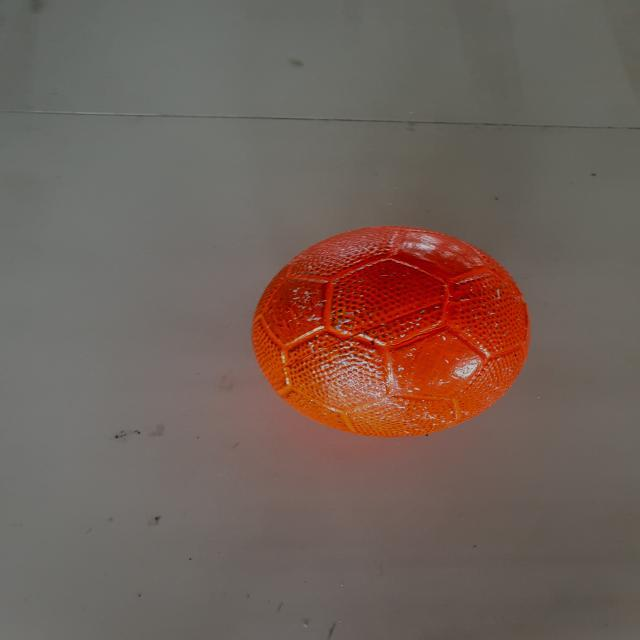bola: (247, 222, 540, 449)
